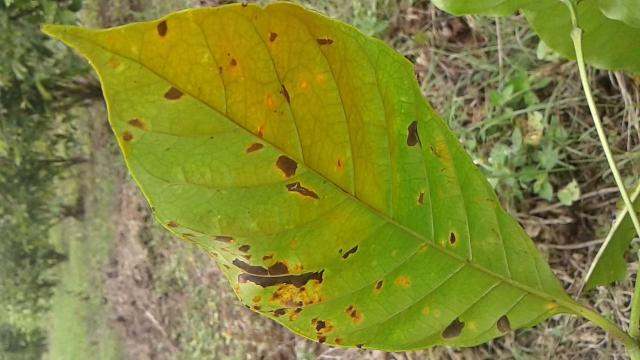rust_level_4: (50, 4, 566, 348)
